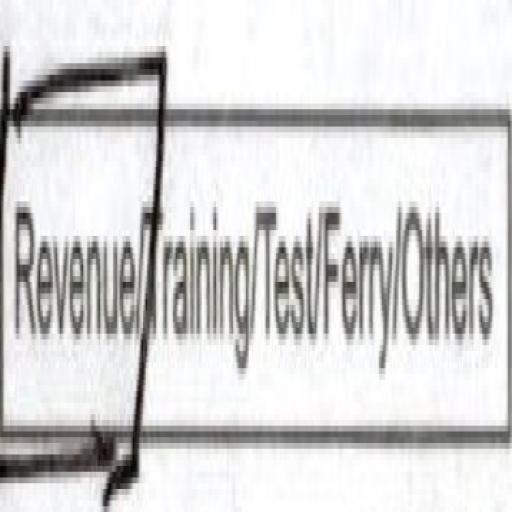check: (0, 0, 140, 454)
